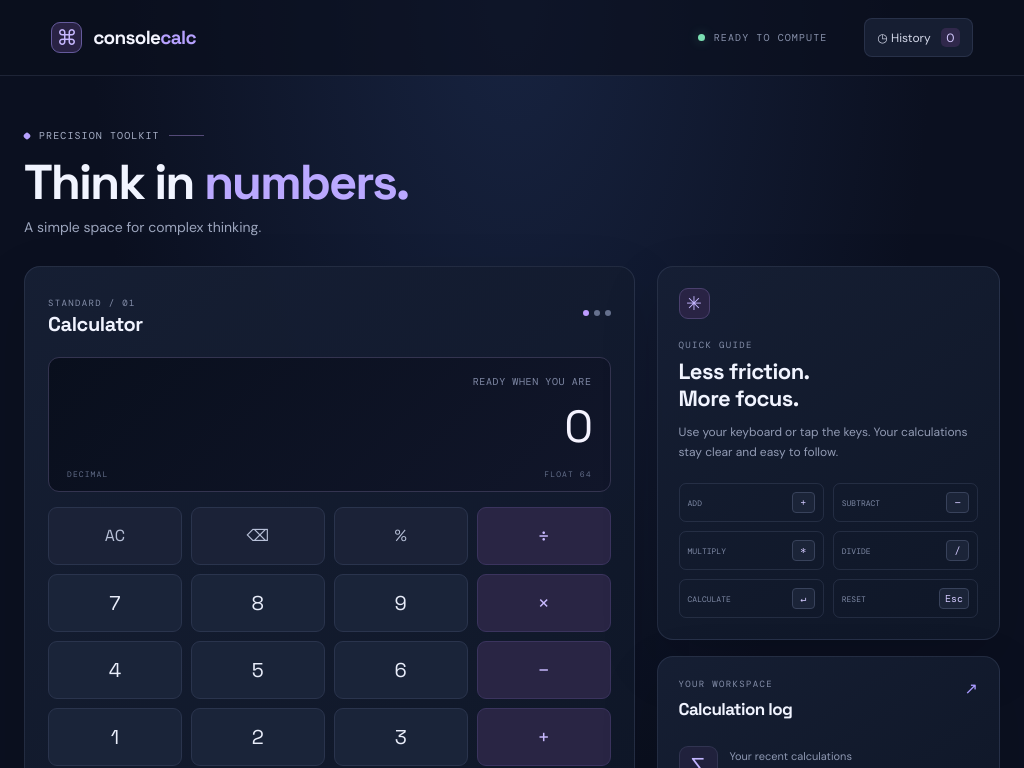
Test case: Calculator UI › starts fractional operands correctly after an operator
Click the button "5" at (258, 670), box [191,641,325,699]
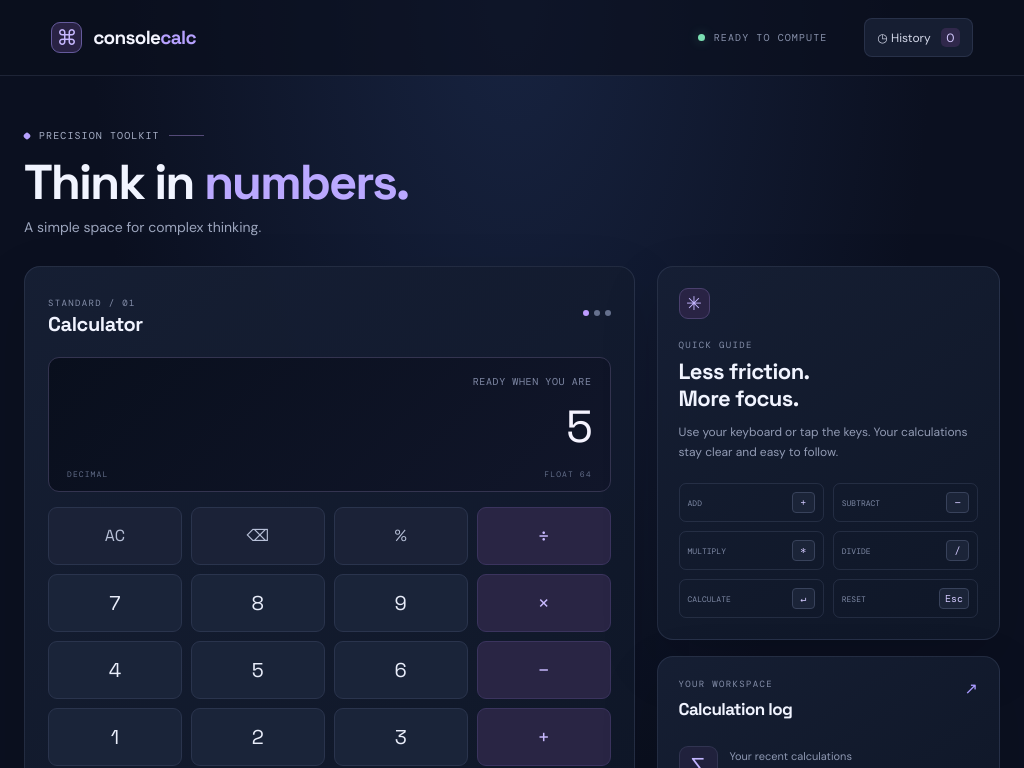
Click the button "+" at (544, 737), box [477,708,611,766]
(page scrolled)
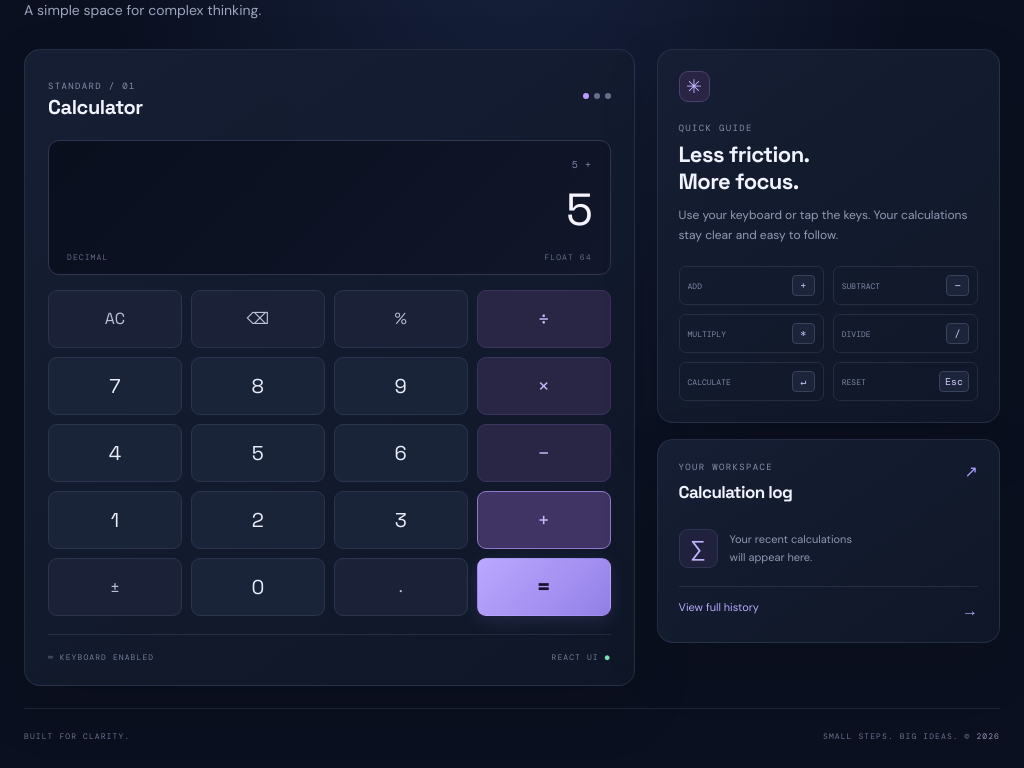
Click the button "." at (401, 587), box [334,558,468,616]
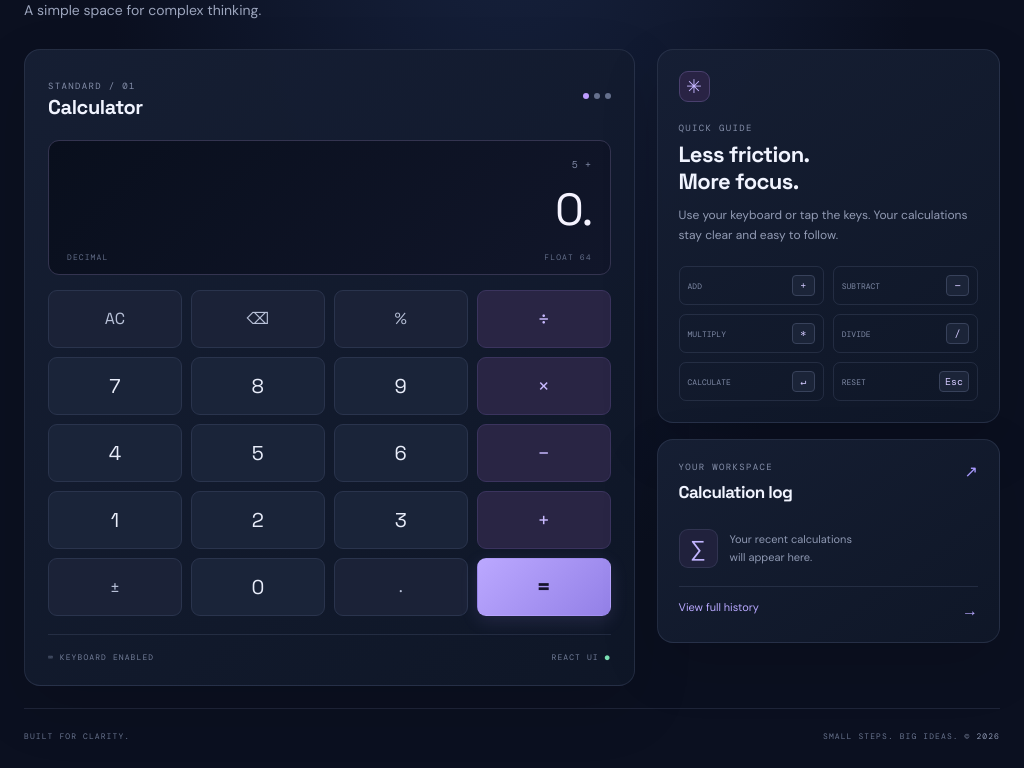
Check: the text "0." is shown, box [555,181,592,238]
Click the button "2" at (258, 520), box [191,491,325,549]
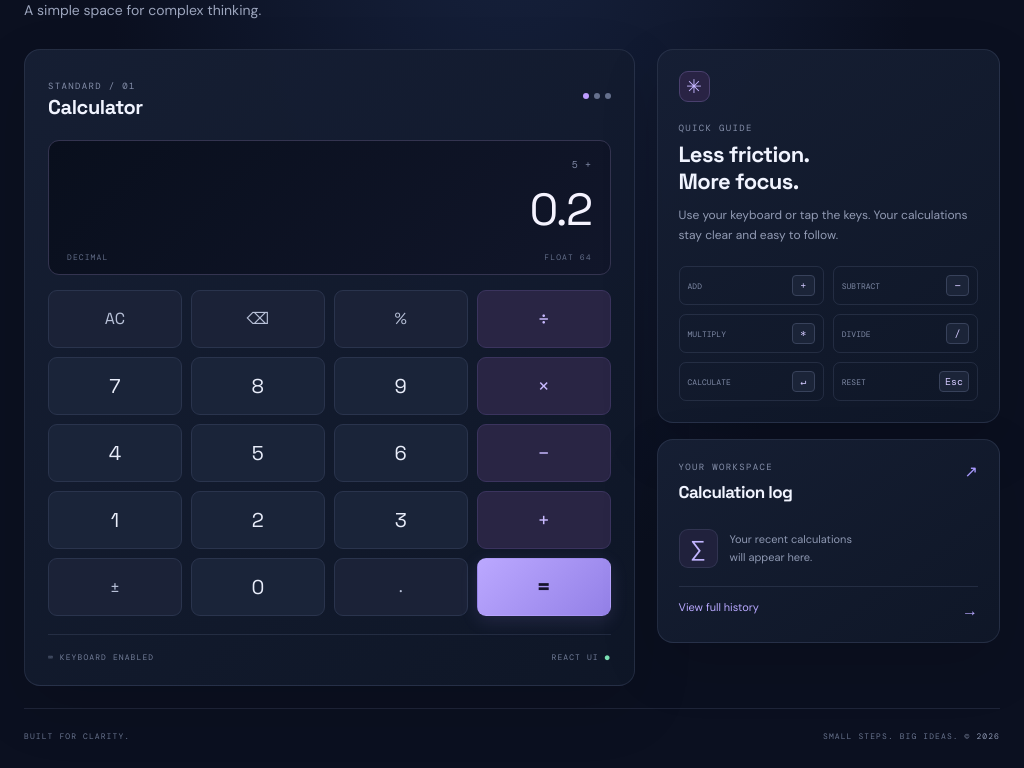
Click the button "=" at (544, 587), box [477,558,611,616]
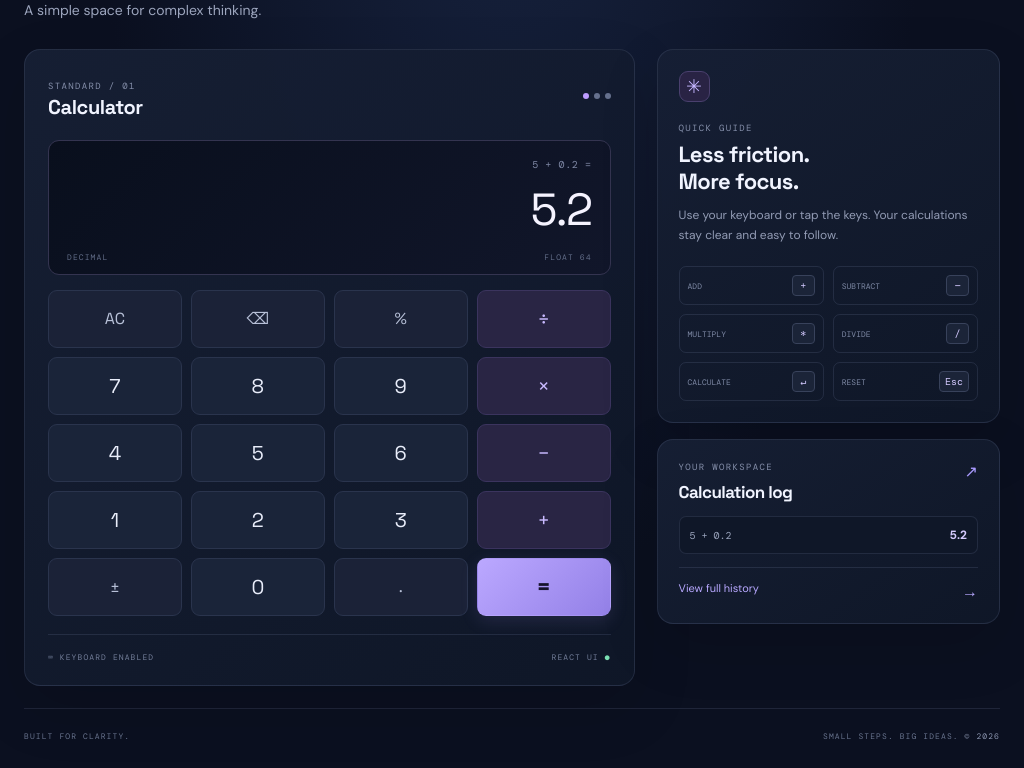
Check: the text "5.2" below "5 + 0.2 =" is shown, box [531,181,592,238]
